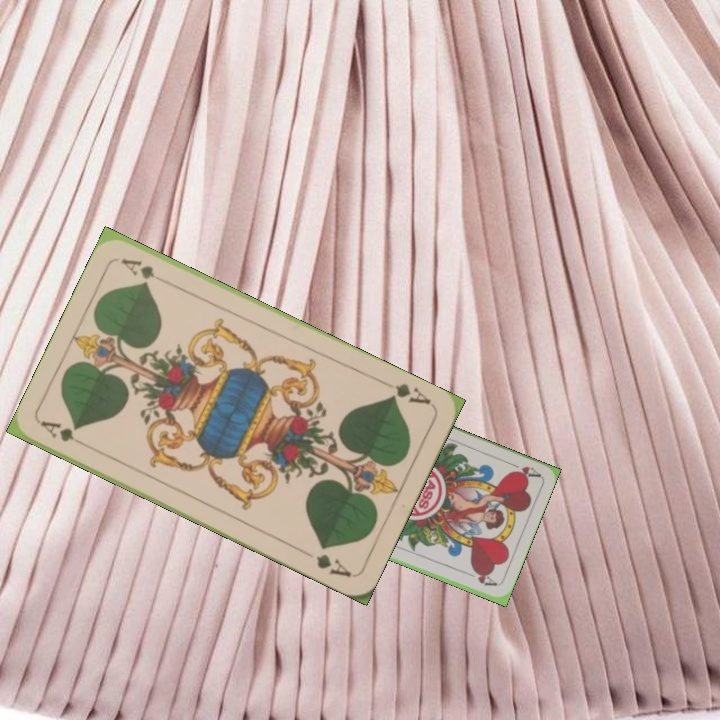GA: (37, 416, 92, 451), (384, 379, 434, 407)
HA: (503, 457, 542, 480)
